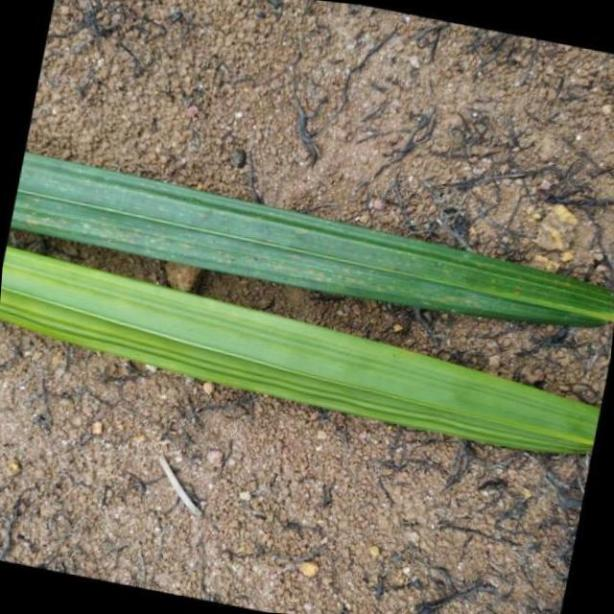nitrogen: (5, 155, 614, 457)
